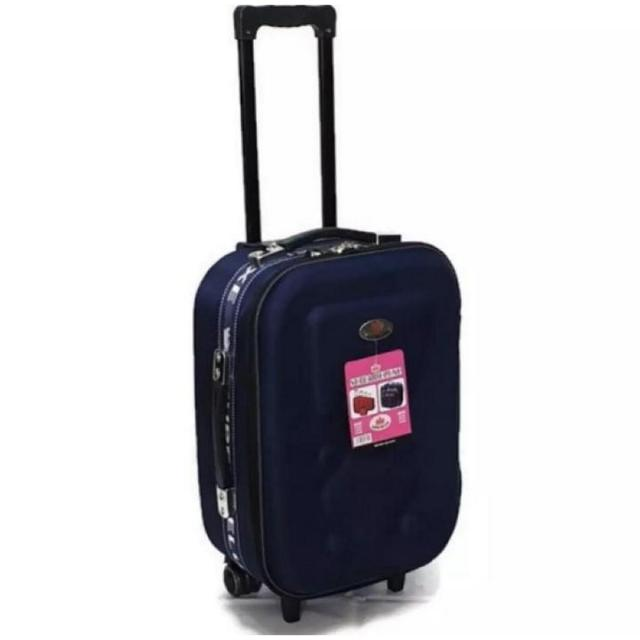luggage: (186, 223, 466, 604)
